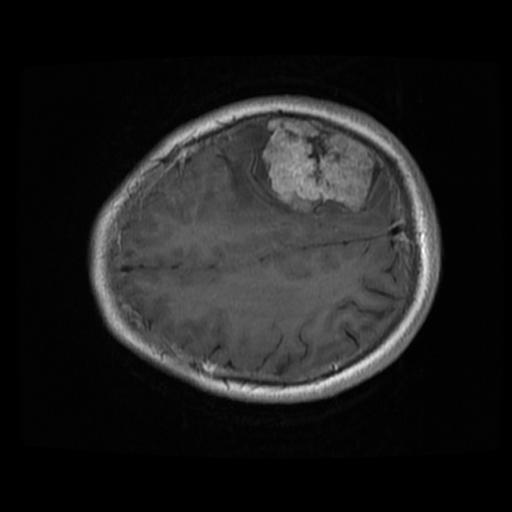meningioma: (261, 117, 378, 213)
